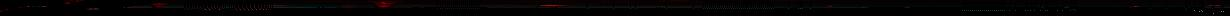Blue cone: (19, 7, 24, 8), (26, 6, 30, 7)
Yellow cone: (826, 5, 834, 7)
